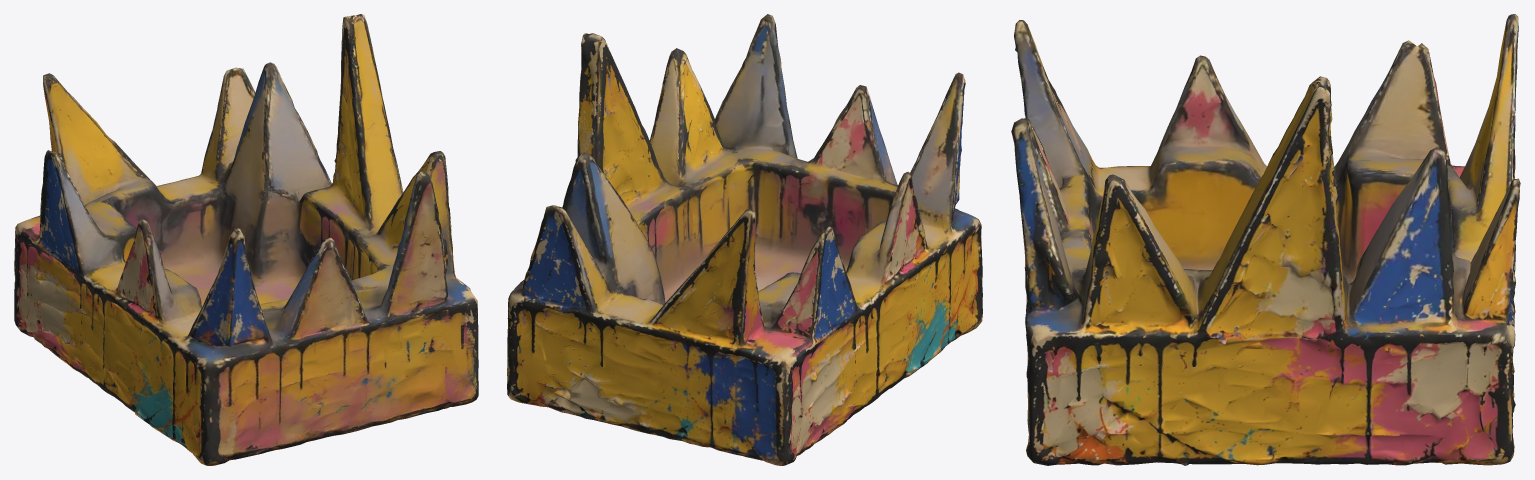
The model's file is statue2_crown.glb.
The picture shows the model from 3 angles, left to right: view 1: azimuth 30°, elevation 25°; view 2: azimuth 150°, elevation 25°; view 3: azimuth 270°, elevation 25°; orthographic projection. The views are drawn at different scales.
Visible parts, largest first — view 1: statue2_crown; view 2: statue2_crown; view 3: statue2_crown.
Part boxes in pixels (x1,y1,x2,y2): statue2_crown: (14,14,478,465); statue2_crown: (507,14,982,465); statue2_crown: (1011,14,1520,465).
Bounding box in the file's own units: 1.36 × 1.41 × 1.7.
1 material, 1 textured.
